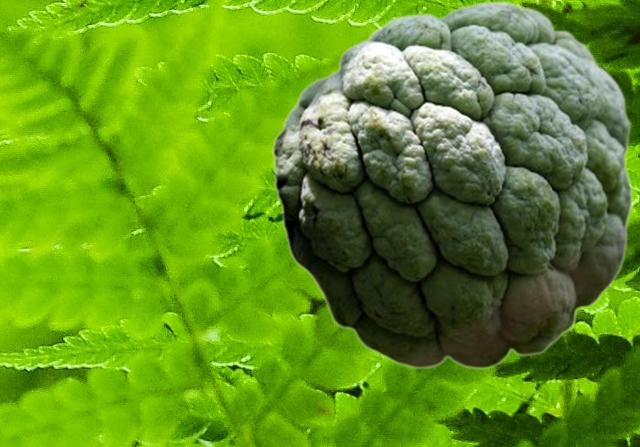atis: (271, 0, 633, 369)
